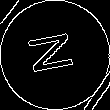N_E: (26, 30, 84, 80)
